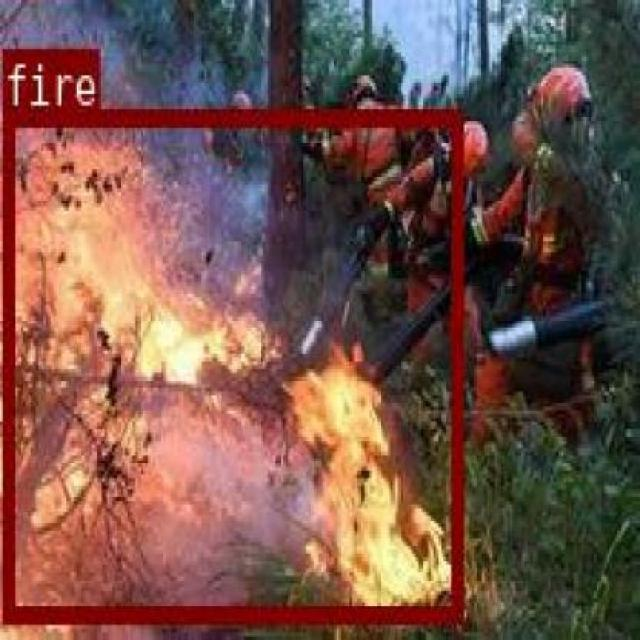Fire: (0, 108, 460, 620)
